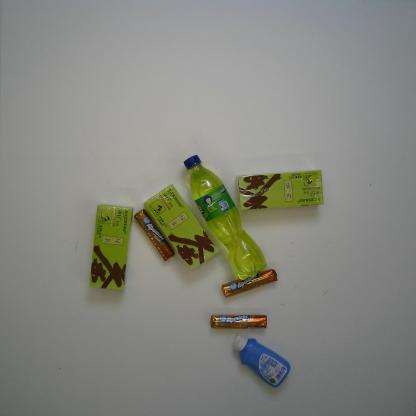Candy: (134, 208, 174, 262), (221, 268, 278, 298), (210, 314, 267, 330)
Drink: (183, 154, 267, 282)
Instant Drink: (143, 183, 220, 272), (88, 204, 134, 291), (235, 169, 325, 211)
Personal Hygiene: (234, 331, 291, 388)
